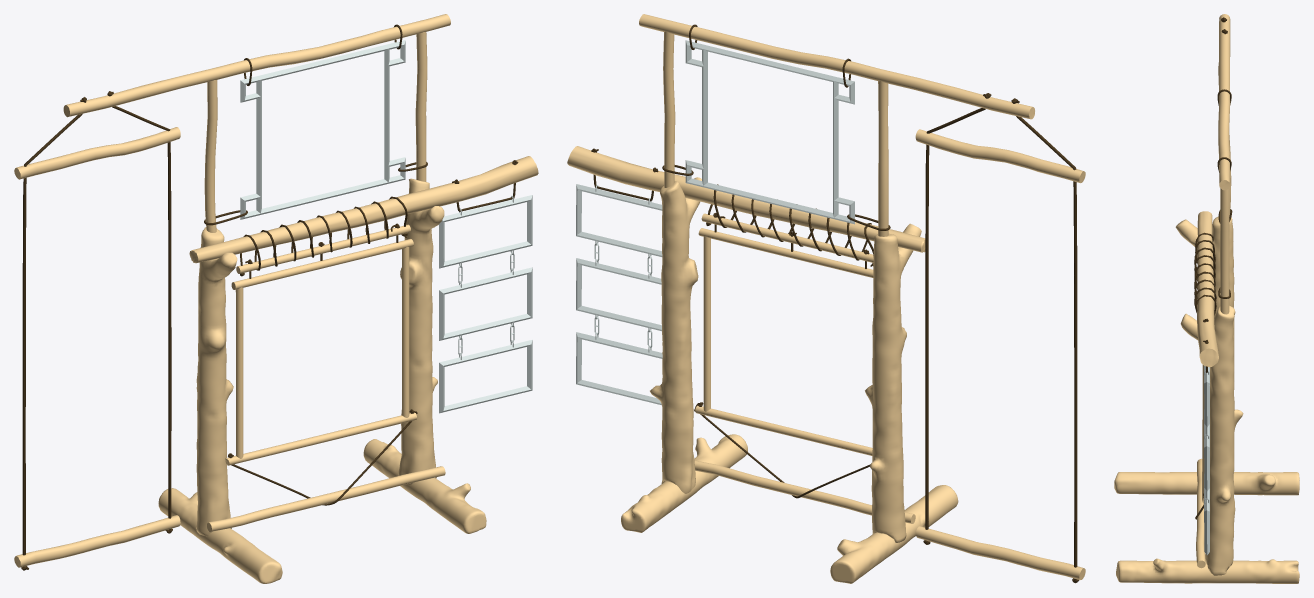
Rendered from loom16.fbx.
3 views of the same model, side by side, from view 1: azimuth 30°, elevation 25°; view 2: azimuth 150°, elevation 25°; view 3: azimuth 270°, elevation 25° (orthographic). The views are drawn at different scales.
Visible parts, largest first — view 1: wood, Post_Low, Buttons, wood.001, Rope.001, Rope; view 2: Post_Low, wood, Buttons, wood.001, Rope.001, Rope; view 3: Post_Low, wood, Rope, Buttons.
Boxes of the visible parts, x1,y1,x2,y2 form: wood: (63,14,538,532); Post_Low: (158,178,486,583); Buttons: (240,40,532,413); wood.001: (14,127,180,567); Rope.001: (21,91,172,570); Rope: (204,24,518,505); Post_Low: (621,177,958,583); wood: (567,14,1034,523); Buttons: (576,40,854,405); wood.001: (915,129,1085,579); Rope.001: (923,93,1079,583); Rope: (591,24,890,498); Post_Low: (1114,216,1299,583); wood: (1196,14,1231,568); Rope: (1194,89,1232,519); Buttons: (1204,366,1209,555).
Bounding box in the file's own units: 637 × 567 × 227.
